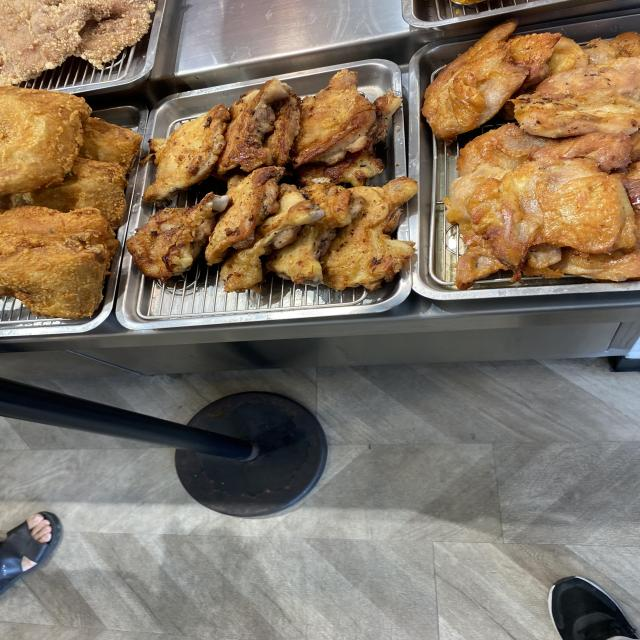Chicken Leg Steak: (470, 67, 635, 252), (232, 114, 388, 262)
